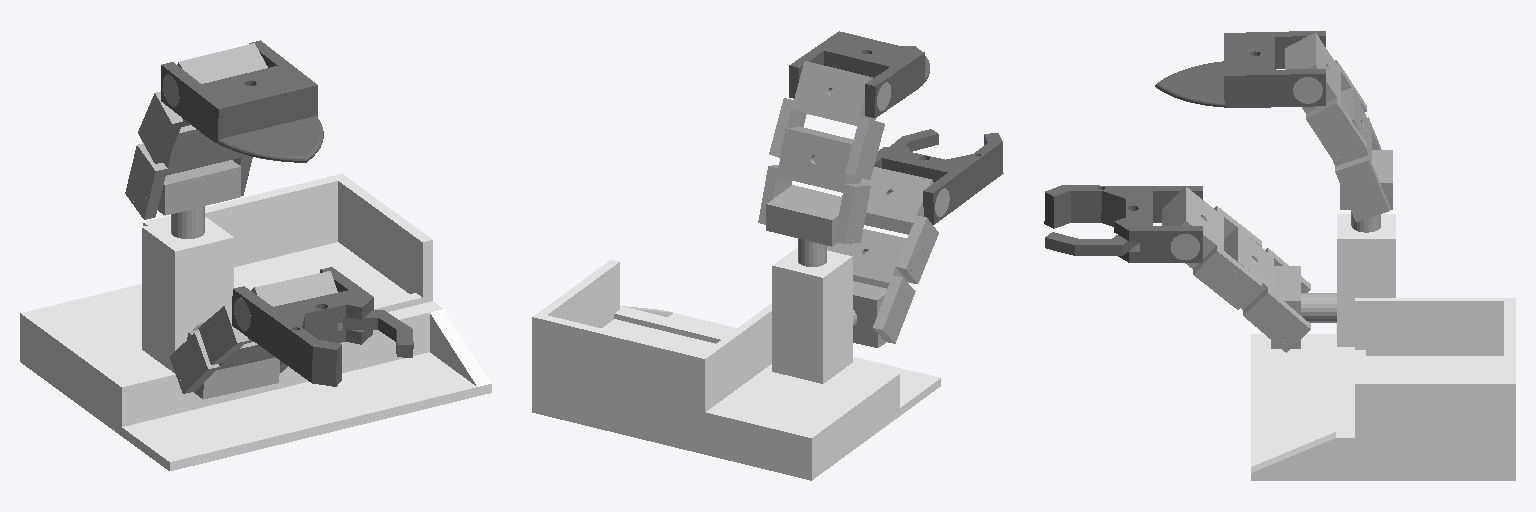
URDF robot description (robot_urdf):
<?xml version="1.0" encoding="utf-8" ?>
<!-- This URDF was automatically created by SolidWorks to URDF Exporter! Originally created by [author] ([email redacted]) 
     Commit Version: 1.5.1-0-g916b5db  Build Version: 1.5.7152.31018
     For more information, please see http://wiki.ros.org/sw_urdf_exporter -->
<robot name="robot_urdf">
    <link name="base_link">
        
<inertial>
            <origin xyz="0.129560045523484 0.0776994733345288 -0.0197394839489426" rpy="0 0 0" />
            <mass value="17.9414754657368" />
            <inertia ixx="0.250413641281025" ixy="-0.0275530282068482" ixz="0.0194899429836188" iyy="0.510196082945248" iyz="0.00169557630161855" izz="0.645281275839878" />
        </inertial>

        <visual>
            <origin xyz="0 0 0" rpy="0 0 0" />
            <geometry>
                <mesh filename="package://robot_urdf/meshes/base_link.STL" />
            </geometry>
            <material name="">
                <color rgba="1 1 1 1" />
            </material>
        </visual>
        <collision>
            <origin xyz="0 0 0" rpy="0 0 0" />
            <geometry>
                <mesh filename="package://robot_urdf/meshes/base_link.STL" />
            </geometry>
        </collision>
    </link>
    <link name="First_arm_link_one">
        
<inertial>
            <origin xyz="-1.11022302462516E-16 0 0.0925579647346043" rpy="0 0 0" />
            <mass value="0.820619449019234" />
            <inertia ixx="0.00118623926597613" ixy="-7.45388993583784E-20" ixz="-4.87890977618477E-19" iyy="0.0020473718804621" iyz="-3.3881317890172E-20" izz="0.00172451369230448" />
        </inertial>

        <visual>
            <origin xyz="0 0 0" rpy="0 0 0" />
            <geometry>
                <mesh filename="package://robot_urdf/meshes/First_arm_link_one.STL" />
            </geometry>
            <material name="">
                <color rgba="0.752941176470588 0.752941176470588 0.752941176470588 1" />
            </material>
        </visual>
        <collision>
            <origin xyz="0 0 0" rpy="0 0 0" />
            <geometry>
                <mesh filename="package://robot_urdf/meshes/First_arm_link_one.STL" />
            </geometry>
        </collision>
    </link>
    <joint name="First_arm_joint_base_to_one" type="revolute">
        <origin xyz="0 -0.0299999999999999 0.0500000000000014" rpy="1.5707963267949 0.0232467136663085 0" />
        <parent link="base_link" />
        <child link="First_arm_link_one" />
        <axis xyz="0 0 1" />
        <limit lower="-3.142" upper="3.142" effort="1000" velocity="0.5" />
    </joint>
    <link name="First_arm_link_two">
        
<inertial>
            <origin xyz="-4.75687062726354E-05 0.0867941480153956 0" rpy="0 0 0" />
            <mass value="0.901285081387823" />
            <inertia ixx="0.00350381791662463" ixy="5.23085120719062E-07" ixz="2.71050543121376E-19" iyy="0.00256151344216402" iyz="-2.11419423634673E-18" izz="0.00148192816539553" />
        </inertial>

        <visual>
            <origin xyz="0 0 0" rpy="0 0 0" />
            <geometry>
                <mesh filename="package://robot_urdf/meshes/First_arm_link_two.STL" />
            </geometry>
            <material name="">
                <color rgba="0.752941176470588 0.752941176470588 0.752941176470588 1" />
            </material>
        </visual>
        <collision>
            <origin xyz="0 0 0" rpy="0 0 0" />
            <geometry>
                <mesh filename="package://robot_urdf/meshes/First_arm_link_two.STL" />
            </geometry>
        </collision>
    </link>
    <joint name="First_arm_joint_one_to_two" type="revolute">
        <origin xyz="0 0 0.105" rpy="1.5707963267949 0.766657906914625 1.5707963267949" />
        <parent link="First_arm_link_one" />
        <child link="First_arm_link_two" />
        <axis xyz="0 0 1" />
        <limit lower="-3.142" upper="3.142" effort="1000" velocity="0.5" />
    </joint>
    <link name="First_arm_link_three">
        
<inertial>
            <origin xyz="-4.75687062727187E-05 0.0867941480153955 5.55111512312578E-17" rpy="0 0 0" />
            <mass value="0.901285081387823" />
            <inertia ixx="0.00350381791662463" ixy="5.2308512071917E-07" ixz="-1.35525271560688E-19" iyy="0.00256151344216402" iyz="-1.62630325872826E-19" izz="0.00148192816539553" />
        </inertial>

        <visual>
            <origin xyz="0 0 0" rpy="0 0 0" />
            <geometry>
                <mesh filename="package://robot_urdf/meshes/First_arm_link_three.STL" />
            </geometry>
            <material name="">
                <color rgba="0.752941176470588 0.752941176470588 0.752941176470588 1" />
            </material>
        </visual>
        <collision>
            <origin xyz="0 0 0" rpy="0 0 0" />
            <geometry>
                <mesh filename="package://robot_urdf/meshes/First_arm_link_three.STL" />
            </geometry>
        </collision>
    </link>
    <joint name="First_arm_joint_two_to_three" type="revolute">
        <origin xyz="0 0.114 0" rpy="0 0 0.0423575515908315" />
        <parent link="First_arm_link_two" />
        <child link="First_arm_link_three" />
        <axis xyz="0 0 1" />
        <limit lower="-3.142" upper="3.142" effort="1000" velocity="0.5" />
    </joint>
    <link name="First_arm_link_four">
        
<inertial>
            <origin xyz="-0.000128945834098004 0.0906282218500548 -0.0210812447258695" rpy="0 0 0" />
            <mass value="0.75518994011678" />
            <inertia ixx="0.00462712566532353" ixy="1.16533105577582E-06" ixz="-6.7713012430842E-08" iyy="0.00263026093859986" iyz="0.000984626560456097" izz="0.00248750011777295" />
        </inertial>

        <visual>
            <origin xyz="0 0 0" rpy="0 0 0" />
            <geometry>
                <mesh filename="package://robot_urdf/meshes/First_arm_link_four.STL" />
            </geometry>
            <material name="">
                <color rgba="0.501960784313725 0.501960784313725 0.501960784313725 1" />
            </material>
        </visual>
        <collision>
            <origin xyz="0 0 0" rpy="0 0 0" />
            <geometry>
                <mesh filename="package://robot_urdf/meshes/First_arm_link_four.STL" />
            </geometry>
        </collision>
    </link>
    <joint name="First_arm_joint_three_to_four" type="revolute">
        <origin xyz="0 0.114 0" rpy="0 0 0.717794314227194" />
        <parent link="First_arm_link_three" />
        <child link="First_arm_link_four" />
        <axis xyz="0 0 1" />
        <limit lower="-3.142" upper="3.142" effort="1000" velocity="0.5" />
    </joint>
    <link name="First_arm_gripper_link">
        
<inertial>
            <origin xyz="0.0162405262255488 0.0474218295231625 -5.55111512312578E-17" rpy="0 0 0" />
            <mass value="0.100195253442671" />
            <inertia ixx="0.000219831123448943" ixy="-2.10461652432515E-05" ixz="8.470329472543E-22" iyy="3.1964379827959E-05" iyz="2.28698895758661E-20" izz="0.00023506272322257" />
        </inertial>

        <visual>
            <origin xyz="0 0 0" rpy="0 0 0" />
            <geometry>
                <mesh filename="package://robot_urdf/meshes/First_arm_gripper_link.STL" />
            </geometry>
            <material name="">
                <color rgba="0.501960784313725 0.501960784313725 0.501960784313725 1" />
            </material>
        </visual>
        <collision>
            <origin xyz="0 0 0" rpy="0 0 0" />
            <geometry>
                <mesh filename="package://robot_urdf/meshes/First_arm_gripper_link.STL" />
            </geometry>
        </collision>
    </link>
    <joint name="First_arm_gripper_joint" type="revolute">
        <origin xyz="0 0.095248 0.054787" rpy="1.5708 -1.5298 -1.5708" />
        <parent link="First_arm_link_four" />
        <child link="First_arm_gripper_link" />
        <axis xyz="0 0 -1" />
        <limit lower="-3.142" upper="3.142" effort="1000" velocity="0.5" />
    </joint>
    <link name="Second_arm_link_one">
        
<inertial>
            <origin xyz="0 0 0.0925579647346045" rpy="0 0 0" />
            <mass value="0.820619449019234" />
            <inertia ixx="0.00118623926597613" ixy="-5.96311194867027E-19" ixz="-1.76182853028894E-19" iyy="0.0020473718804621" iyz="9.48676900924816E-20" izz="0.00172451369230448" />
        </inertial>

        <visual>
            <origin xyz="0 0 0" rpy="0 0 0" />
            <geometry>
                <mesh filename="package://robot_urdf/meshes/Second_arm_link_one.STL" />
            </geometry>
            <material name="">
                <color rgba="0.752941176470588 0.752941176470588 0.752941176470588 1" />
            </material>
        </visual>
        <collision>
            <origin xyz="0 0 0" rpy="0 0 0" />
            <geometry>
                <mesh filename="package://robot_urdf/meshes/Second_arm_link_one.STL" />
            </geometry>
        </collision>
    </link>
    <joint name="Second_arm_joint_base_to_one" type="revolute">
        <origin xyz="0 0 0.18" rpy="0 0 0" />
        <parent link="base_link" />
        <child link="Second_arm_link_one" />
        <axis xyz="0 0 1" />
        <limit lower="-3.142" upper="3.142" effort="1000" velocity="0.5" />
    </joint>
    <link name="Second_arm_link_two">
        
<inertial>
            <origin xyz="-4.75687062726424E-05 0.0867941480153956 0" rpy="0 0 0" />
            <mass value="0.901285081387822" />
            <inertia ixx="0.00350381791662463" ixy="5.23085120719496E-07" ixz="-1.62630325872826E-19" iyy="0.00256151344216402" iyz="-1.0842021724855E-19" izz="0.00148192816539553" />
        </inertial>

        <visual>
            <origin xyz="0 0 0" rpy="0 0 0" />
            <geometry>
                <mesh filename="package://robot_urdf/meshes/Second_arm_link_two.STL" />
            </geometry>
            <material name="">
                <color rgba="0.752941176470588 0.752941176470588 0.752941176470588 1" />
            </material>
        </visual>
        <collision>
            <origin xyz="0 0 0" rpy="0 0 0" />
            <geometry>
                <mesh filename="package://robot_urdf/meshes/Second_arm_link_two.STL" />
            </geometry>
        </collision>
    </link>
    <joint name="Second_arm_joint_one_to_two" type="revolute">
        <origin xyz="0 0 0.105" rpy="1.5707963267949 -0.35463675728648 1.5707963267949" />
        <parent link="Second_arm_link_one" />
        <child link="Second_arm_link_two" />
        <axis xyz="0 0 1" />
        <limit lower="-3.142" upper="3.142" effort="1000" velocity="0.5" />
    </joint>
    <link name="Second_arm_link_three">
        
<inertial>
            <origin xyz="-4.75687062726562E-05 0.0867941480153954 -1.66533453693773E-16" rpy="0 0 0" />
            <mass value="0.901285081387822" />
            <inertia ixx="0.00350381791662463" ixy="5.2308512071917E-07" ixz="-6.50521303491303E-19" iyy="0.00256151344216402" iyz="-1.97866896478605E-18" izz="0.00148192816539553" />
        </inertial>

        <visual>
            <origin xyz="0 0 0" rpy="0 0 0" />
            <geometry>
                <mesh filename="package://robot_urdf/meshes/Second_arm_link_three.STL" />
            </geometry>
            <material name="">
                <color rgba="0.752941176470588 0.752941176470588 0.752941176470588 1" />
            </material>
        </visual>
        <collision>
            <origin xyz="0 0 0" rpy="0 0 0" />
            <geometry>
                <mesh filename="package://robot_urdf/meshes/Second_arm_link_three.STL" />
            </geometry>
        </collision>
    </link>
    <joint name="Second_arm_joint_two_to_three" type="revolute">
        <origin xyz="0 0.114 0" rpy="0 0 0.178792147395066" />
        <parent link="Second_arm_link_two" />
        <child link="Second_arm_link_three" />
        <axis xyz="0 0 1" />
        <limit lower="-3.142" upper="3.142" effort="1000" velocity="0.5" />
    </joint>
    <link name="Second_arm_link_four">
        
<inertial>
            <origin xyz="-0.00289506003178897 0.0986207807241998 2.33644389335819E-07" rpy="0 0 0" />
            <mass value="1.11620693193957" />
            <inertia ixx="0.00538992071797305" ixy="0.000268307851966755" ixz="-2.71642241861213E-08" iyy="0.00336702952924214" iyz="-5.76335807352156E-08" izz="0.00277888846833115" />
        </inertial>

        <visual>
            <origin xyz="0 0 0" rpy="0 0 0" />
            <geometry>
                <mesh filename="package://robot_urdf/meshes/Second_arm_link_four.STL" />
            </geometry>
            <material name="">
                <color rgba="0.501960784313725 0.501960784313725 0.501960784313725 1" />
            </material>
        </visual>
        <collision>
            <origin xyz="0 0 0" rpy="0 0 0" />
            <geometry>
                <mesh filename="package://robot_urdf/meshes/Second_arm_link_four.STL" />
            </geometry>
        </collision>
    </link>
    <joint name="Second_arm_joint_three_to_four" type="revolute">
        <origin xyz="0 0.114000000000003 0" rpy="0 0 1.06264689917294" />
        <parent link="Second_arm_link_three" />
        <child link="Second_arm_link_four" />
        <axis xyz="0 0 1" />
        <limit lower="-3.142" upper="3.142" effort="1000" velocity="0.5" />
    </joint>
    
<transmission name="trans_First_arm_joint_base_to_one">
        <type>transmission_interface/SimpleTransmission</type>
        <joint name="First_arm_joint_base_to_one">
            <hardwareInterface>hardware_interface/PositionJointInterface</hardwareInterface>
        </joint>
        <actuator name="First_arm_joint_base_to_one_motor">
            <hardwareInterface>hardware_interface/PositionJointInterface</hardwareInterface>
            <mechanicalReduction>1</mechanicalReduction>
        </actuator>
    </transmission>
    <transmission name="trans_First_arm_joint_one_to_two">
        <type>transmission_interface/SimpleTransmission</type>
        <joint name="First_arm_joint_one_to_two">
            <hardwareInterface>hardware_interface/PositionJointInterface</hardwareInterface>
        </joint>
        <actuator name="First_arm_joint_one_to_two_motor">
            <hardwareInterface>hardware_interface/PositionJointInterface</hardwareInterface>
            <mechanicalReduction>1</mechanicalReduction>
        </actuator>
    </transmission>
    <transmission name="trans_First_arm_joint_two_to_three">
        <type>transmission_interface/SimpleTransmission</type>
        <joint name="First_arm_joint_two_to_three">
            <hardwareInterface>hardware_interface/PositionJointInterface</hardwareInterface>
        </joint>
        <actuator name="First_arm_joint_two_to_three_motor">
            <hardwareInterface>hardware_interface/PositionJointInterface</hardwareInterface>
            <mechanicalReduction>1</mechanicalReduction>
        </actuator>
    </transmission>
    <transmission name="trans_First_arm_joint_three_to_four">
        <type>transmission_interface/SimpleTransmission</type>
        <joint name="First_arm_joint_three_to_four">
            <hardwareInterface>hardware_interface/PositionJointInterface</hardwareInterface>
        </joint>
        <actuator name="First_arm_joint_three_to_four_motor">
            <hardwareInterface>hardware_interface/PositionointInterface</hardwareInterface>
            <mechanicalReduction>1</mechanicalReduction>
        </actuator>
    </transmission>
    <transmission name="trans_First_arm_gripper_joint">
        <type>transmission_interface/SimpleTransmission</type>
        <joint name="First_arm_gripper_joint">
            <hardwareInterface>hardware_interface/PositionJointInterface</hardwareInterface>
        </joint>
        <actuator name="First_arm_gripper_joint_motor">
            <hardwareInterface>hardware_interface/PositionJointInterface</hardwareInterface>
            <mechanicalReduction>1</mechanicalReduction>
        </actuator>
    </transmission>
    <transmission name="trans_Second_arm_joint_base_to_one">
        <type>transmission_interface/SimpleTransmission</type>
        <joint name="Second_arm_joint_base_to_one">
            <hardwareInterface>hardware_interface/PositionJointInterface</hardwareInterface>
        </joint>
        <actuator name="Second_arm_joint_base_to_one_motor">
            <hardwareInterface>hardware_interface/PositionJointInterface</hardwareInterface>
            <mechanicalReduction>1</mechanicalReduction>
        </actuator>
    </transmission>
    <transmission name="trans_Second_arm_joint_one_to_two">
        <type>transmission_interface/SimpleTransmission</type>
        <joint name="Second_arm_joint_one_to_two">
            <hardwareInterface>hardware_interface/PositionJointInterface</hardwareInterface>
        </joint>
        <actuator name="Second_arm_joint_one_to_two_motor">
            <hardwareInterface>hardware_interface/PositionJointInterface</hardwareInterface>
            <mechanicalReduction>1</mechanicalReduction>
        </actuator>
    </transmission>
    <transmission name="trans_Second_arm_joint_two_to_three">
        <type>transmission_interface/SimpleTransmission</type>
        <joint name="Second_arm_joint_two_to_three">
            <hardwareInterface>hardware_interface/PositionJointInterface</hardwareInterface>
        </joint>
        <actuator name="Second_arm_joint_two_to_three_motor">
            <hardwareInterface>hardware_interface/PositionJointInterface</hardwareInterface>
            <mechanicalReduction>1</mechanicalReduction>
        </actuator>
    </transmission>
    <transmission name="trans_Second_arm_joint_three_to_four">
        <type>transmission_interface/SimpleTransmission</type>
        <joint name="Second_arm_joint_three_to_four">
            <hardwareInterface>hardware_interface/PositionJointInterface</hardwareInterface>
        </joint>
        <actuator name="Second_arm_joint_three_to_four_motor">
            <hardwareInterface>hardware_interface/PositionJointInterface</hardwareInterface>
            <mechanicalReduction>1</mechanicalReduction>
        </actuator>
    </transmission>
    <gazebo>
        <plugin name="gazebo_ros_control" filename="libgazebo_ros_control.so">
            <robotNamespace>/</robotNamespace>
        </plugin>
    </gazebo>
</robot>

--- Facts derived from the render (not from the file) ---
3 views of the same robot in one strip: view 1: azimuth 30°, elevation 25°; view 2: azimuth 150°, elevation 25°; view 3: azimuth 270°, elevation 25° (orthographic).
Robot: robot_urdf — 10 links, 9 joints (9 revolute); root link base_link; default pose: all joints at 0.
Visible links, largest first — view 1: base_link, Second_arm_link_four, First_arm_link_four, Second_arm_link_one, Second_arm_link_two, Second_arm_link_three, First_arm_link_three, First_arm_link_one, First_arm_link_two, First_arm_gripper_link; view 2: base_link, Second_arm_link_two, Second_arm_link_three, Second_arm_link_four, First_arm_link_three, First_arm_link_four, Second_arm_link_one, First_arm_link_two, First_arm_link_one, First_arm_gripper_link; view 3: base_link, Second_arm_link_four, First_arm_link_four, First_arm_link_three, Second_arm_link_three, First_arm_link_two, Second_arm_link_two, First_arm_link_one, Second_arm_link_one, First_arm_gripper_link.
Link boxes in pixels (x1,y1,x2,y2): base_link: (20, 174, 491, 470); Second_arm_link_four: (161, 40, 323, 162); First_arm_link_four: (232, 267, 373, 386); Second_arm_link_one: (130, 160, 240, 238); Second_arm_link_two: (125, 120, 252, 219); Second_arm_link_three: (138, 43, 267, 163); First_arm_link_three: (198, 271, 337, 364); First_arm_link_one: (175, 321, 279, 399); First_arm_link_two: (169, 324, 287, 393); First_arm_gripper_link: (343, 299, 413, 357); base_link: (532, 247, 940, 480); Second_arm_link_two: (758, 127, 873, 243); Second_arm_link_three: (769, 61, 891, 179); Second_arm_link_four: (789, 31, 929, 117); First_arm_link_three: (827, 167, 949, 283); First_arm_link_four: (874, 133, 1003, 224); Second_arm_link_one: (766, 185, 862, 266); First_arm_link_two: (831, 229, 925, 343); First_arm_link_one: (853, 281, 901, 347); First_arm_gripper_link: (890, 129, 938, 152); base_link: (1251, 214, 1515, 480); Second_arm_link_four: (1155, 31, 1325, 107); First_arm_link_four: (1044, 185, 1202, 262); First_arm_link_three: (1162, 186, 1261, 309); Second_arm_link_three: (1285, 32, 1366, 165); First_arm_link_two: (1222, 227, 1310, 352); Second_arm_link_two: (1328, 87, 1389, 221); First_arm_link_one: (1271, 266, 1336, 348); Second_arm_link_one: (1340, 150, 1392, 232); First_arm_gripper_link: (1045, 220, 1139, 255).
Bounding box of the posed robot: 0.55 × 0.7868 × 0.6077 m (x, y, z).
Meshes: 10 distinct files referenced, 10 mesh visuals loaded (10 binary STL).
